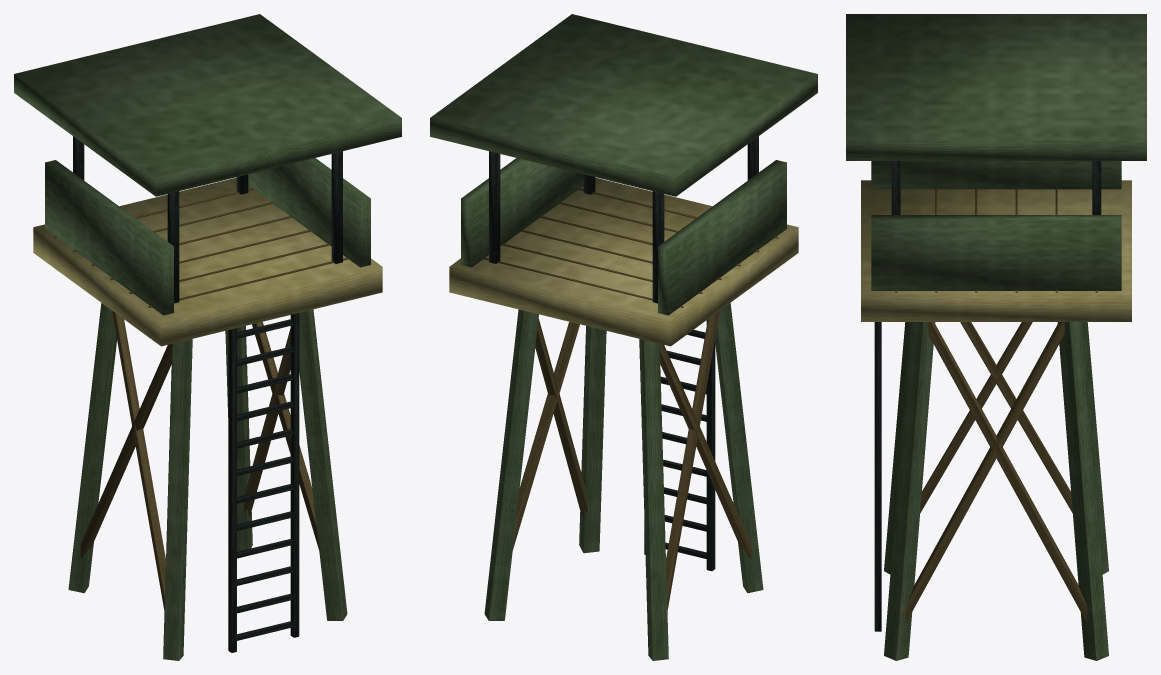
The model's file is tower.glb.
The picture shows the model from 3 angles, left to right: view 1: azimuth 30°, elevation 25°; view 2: azimuth 150°, elevation 25°; view 3: azimuth 270°, elevation 25°; orthographic projection. The views are drawn at different scales.
Parts seen in each view (by area): view 1: Tower roof, Platform, Railing, Tower support, Tower support.002, Railing.001, Tower support.001, Ladder rail.001, Cross brace, Ladder rail, Cross brace.001, Tower support.003 (+4 smaller); view 2: Tower roof, Platform, Railing, Tower support.003, Tower support.001, Railing.001, Tower support, Tower support.002, Cross brace.001, Cross brace, Cross brace.003, Cross brace.002 (+3 smaller); view 3: Tower roof, Railing.001, Platform, Tower support.002, Tower support.003, Railing, Cross brace.002, Cross brace.003, Ladder rail.001, Cross brace, Cross brace.001, Tower support (+3 smaller).
Part boxes in pixels (x1,y1,x2,y2): Tower roof: (14, 14, 401, 196); Platform: (33, 177, 382, 346); Railing: (45, 160, 173, 315); Tower support: (163, 339, 192, 660); Tower support.002: (299, 309, 347, 620); Railing.001: (248, 158, 370, 267); Tower support.001: (68, 303, 116, 592); Ladder rail.001: (290, 313, 299, 637); Cross brace: (112, 311, 165, 610); Ladder rail: (228, 328, 236, 652); Cross brace.001: (80, 344, 172, 558); Tower support.003: (225, 326, 252, 551); Tower roof: (430, 14, 817, 196); Platform: (449, 177, 798, 346); Railing: (658, 160, 786, 315); Tower support.003: (484, 309, 538, 620); Tower support.001: (639, 339, 668, 660); Railing.001: (461, 158, 583, 267); Tower support: (715, 303, 763, 592); Tower support.002: (579, 326, 606, 553); Cross brace.001: (666, 311, 719, 610); Cross brace: (659, 344, 751, 558); Cross brace.003: (512, 322, 579, 550); Cross brace.002: (535, 319, 587, 517); Tower roof: (846, 14, 1146, 160); Railing.001: (871, 215, 1121, 290); Platform: (861, 180, 1131, 321); Tower support.002: (884, 322, 935, 660); Tower support.003: (1057, 322, 1108, 660); Railing: (871, 161, 1121, 189); Cross brace.002: (905, 322, 1064, 622); Cross brace.003: (928, 322, 1087, 622); Ladder rail.001: (874, 322, 881, 631); Cross brace: (920, 322, 1032, 513); Cross brace.001: (960, 322, 1072, 513); Tower support: (884, 322, 910, 574).
Size of the model in its own units: 3 by 5.92 by 3.
Materials: 4 (4 with a texture image).
